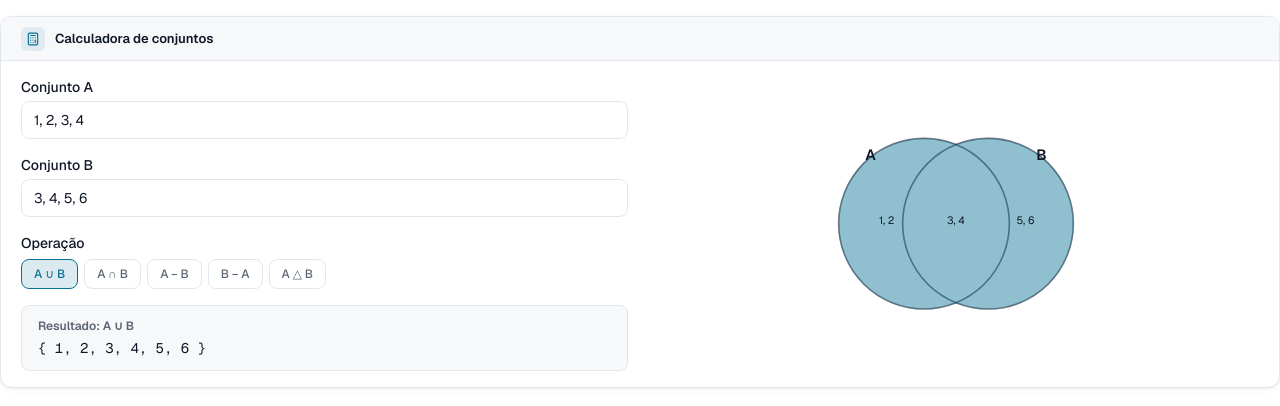
Test: SetCalculator › shows the empty-set symbol when the result has no elements
Replace the text in the field labelled "Conjunto A" with "1, 2" at x=324, y=120, box left=21, top=101, right=628, bottom=139
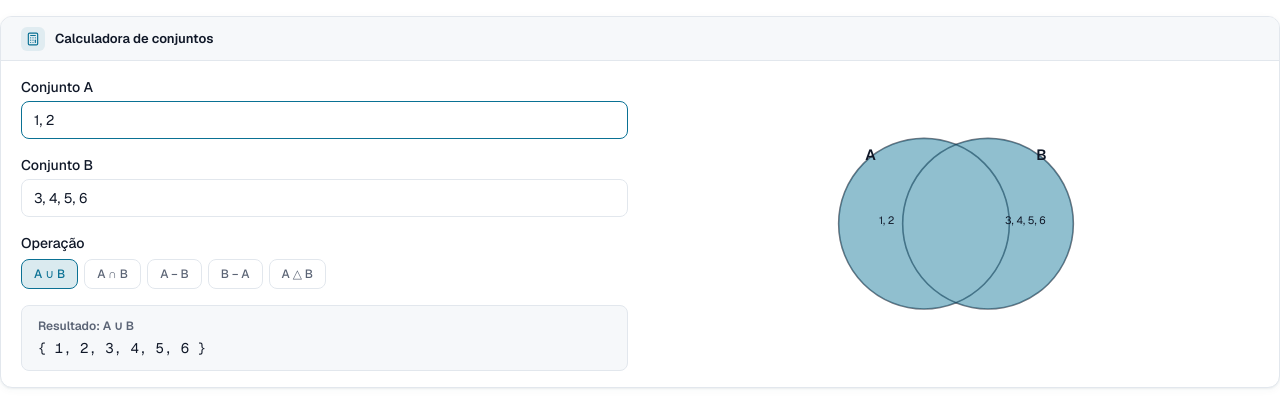
Replace the text in the field labelled "Conjunto B" with "1, 2" at x=324, y=198, box left=21, top=179, right=628, bottom=217
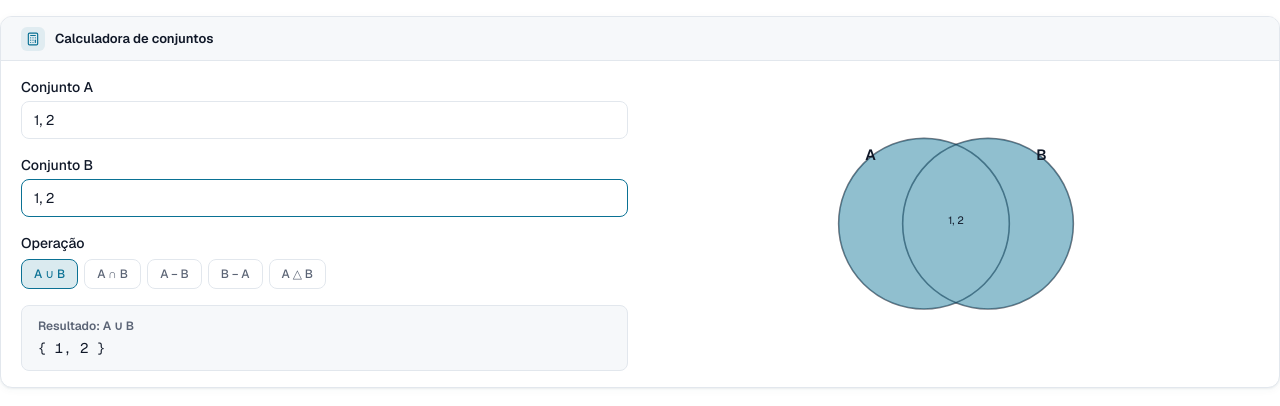
Click the button "A − B" at x=174, y=274, box left=147, top=259, right=202, bottom=289
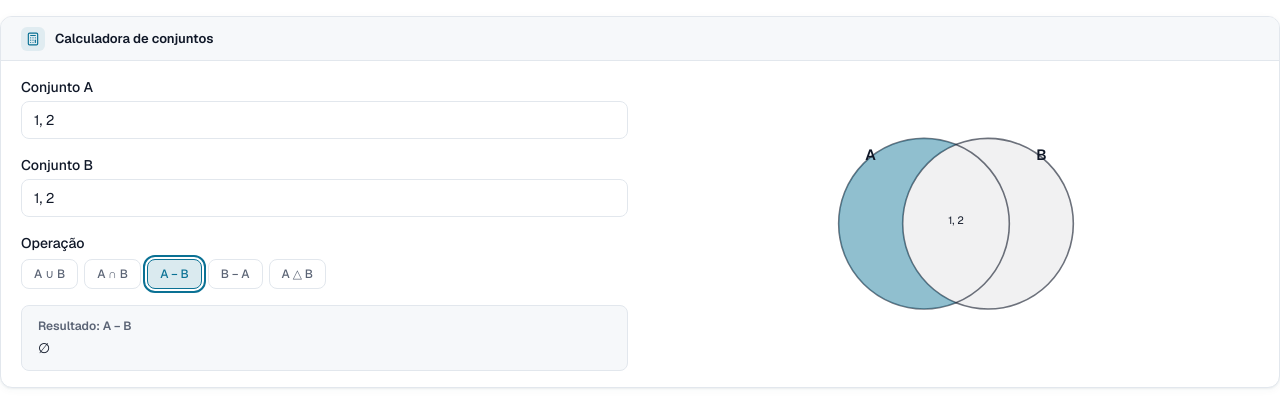
Check: the text "∅" is shown, box left=38, top=339, right=50, bottom=357
